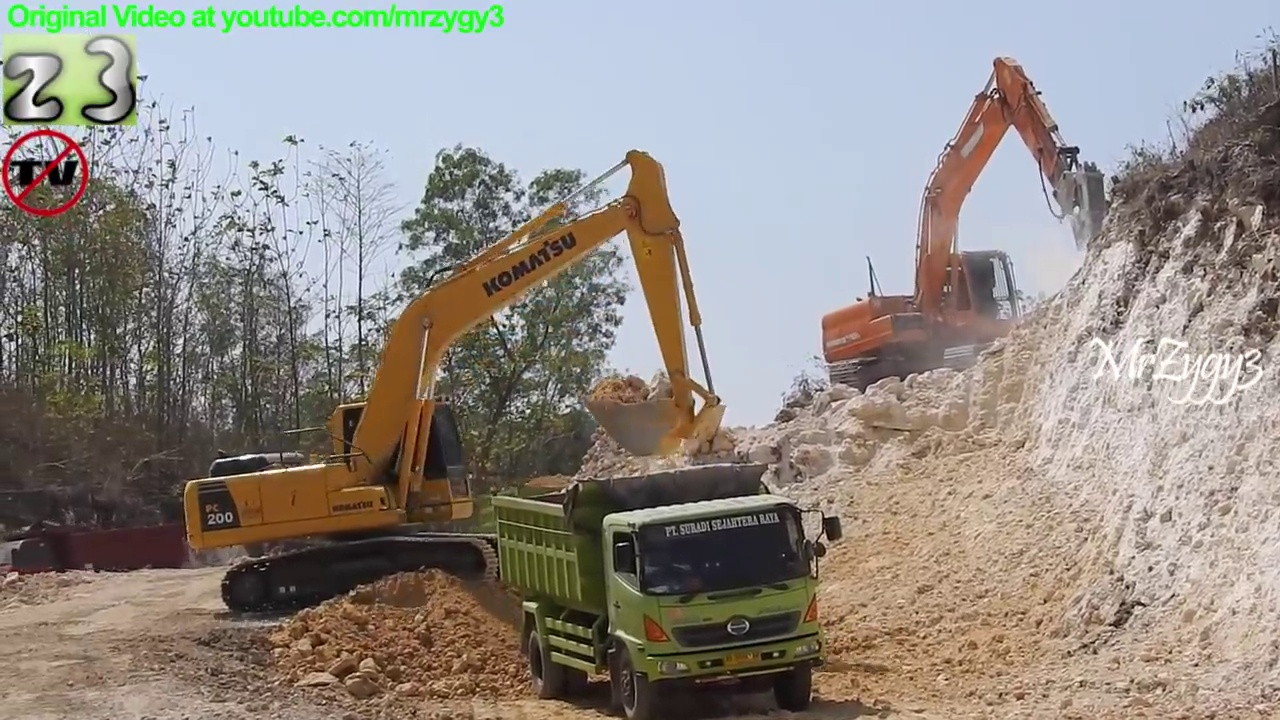excavator: (184, 143, 729, 630), (813, 48, 1119, 409)
truck: (493, 459, 849, 720)
